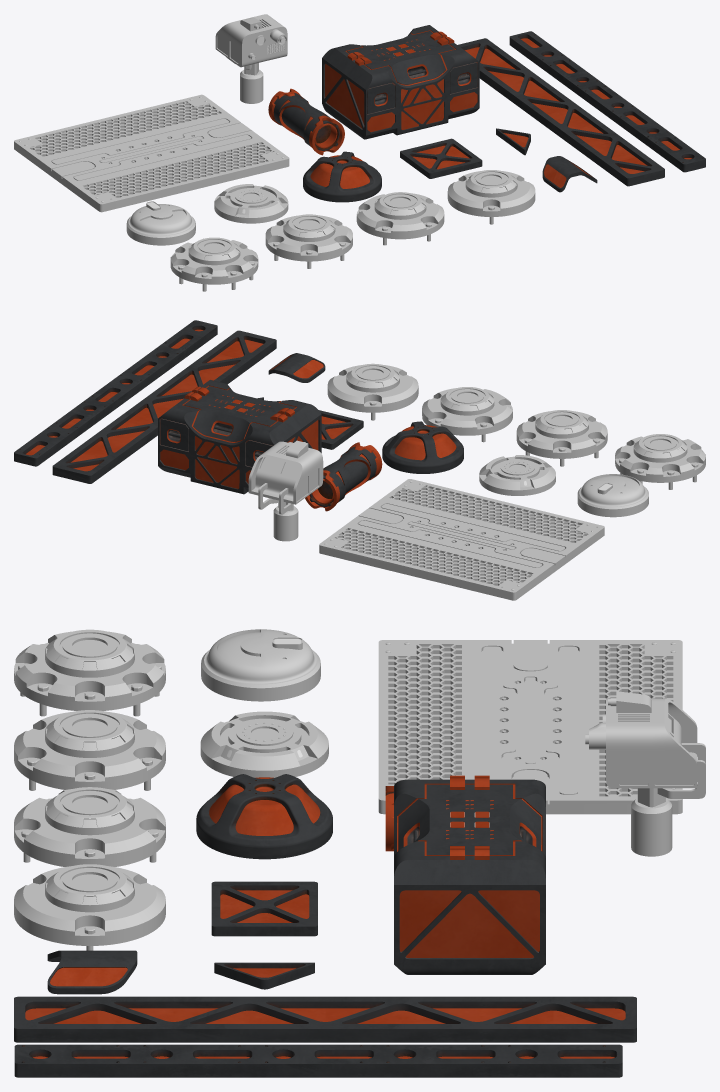
File: kitbash+kit.fbx
3 renders of one model, top to bottom at view 1: azimuth 30°, elevation 25°; view 2: azimuth 150°, elevation 25°; view 3: azimuth 270°, elevation 25°, orthographic. The views are drawn at different scales.
Visible parts, largest first — view 1: floor panel, tech case, panel #2, panel #1, robot head, end cap #4, end cap #3, end cap #2, end cap #1, end cap #5, tech equipment, end cap #7 (+4 smaller); view 2: floor panel, tech case, panel #2, panel #1, robot head, end cap #3, end cap #1, end cap #4, end cap #2, end cap #5, tech equipment, end cap #6 (+3 smaller); view 3: floor panel, tech case, panel #2, panel #1, robot head, end cap #4, end cap #1, end cap #3, end cap #2, end cap #5, end cap #7, end cap #6 (+3 smaller).
Boxes of the visible parts, box(x1,y1,x2,y2) form: floor panel: box(14, 94, 289, 212); tech case: box(322, 25, 479, 139); panel #2: box(457, 38, 664, 186); panel #1: box(509, 31, 705, 172); robot head: box(215, 14, 287, 103); end cap #4: box(170, 237, 258, 291); end cap #3: box(265, 214, 352, 268); end cap #2: box(356, 192, 444, 245); end cap #1: box(447, 170, 535, 224); end cap #5: box(303, 151, 381, 202); tech equipment: box(268, 88, 344, 155); end cap #7: box(126, 201, 195, 245); floor panel: box(319, 479, 604, 600); tech case: box(158, 380, 321, 494); panel #2: box(52, 330, 276, 483); panel #1: box(14, 320, 217, 466); robot head: box(248, 440, 323, 541); end cap #3: box(516, 410, 607, 466); end cap #1: box(327, 363, 418, 420); end cap #4: box(615, 434, 705, 489); end cap #2: box(422, 387, 512, 442); end cap #5: box(382, 421, 463, 473); tech equipment: box(305, 442, 382, 511); end cap #6: box(479, 455, 555, 495); floor panel: box(378, 640, 682, 814); tech case: box(394, 775, 545, 974); panel #2: box(14, 996, 636, 1042); panel #1: box(14, 1044, 622, 1077); robot head: box(585, 691, 705, 856); end cap #4: box(14, 629, 165, 716); end cap #1: box(14, 864, 165, 950); end cap #3: box(14, 710, 165, 790); end cap #2: box(14, 787, 165, 866); end cap #5: box(196, 774, 332, 859); end cap #7: box(201, 629, 320, 701); end cap #6: box(200, 711, 328, 777).
Size of the model in its own units: 1340 by 236 by 911.
